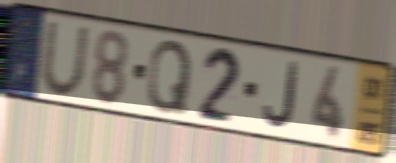2: (193, 43, 245, 129)
4: (309, 63, 346, 144)
8: (91, 28, 131, 107)
J: (261, 59, 301, 132)
Q: (145, 37, 195, 116)
U: (39, 19, 92, 100)
